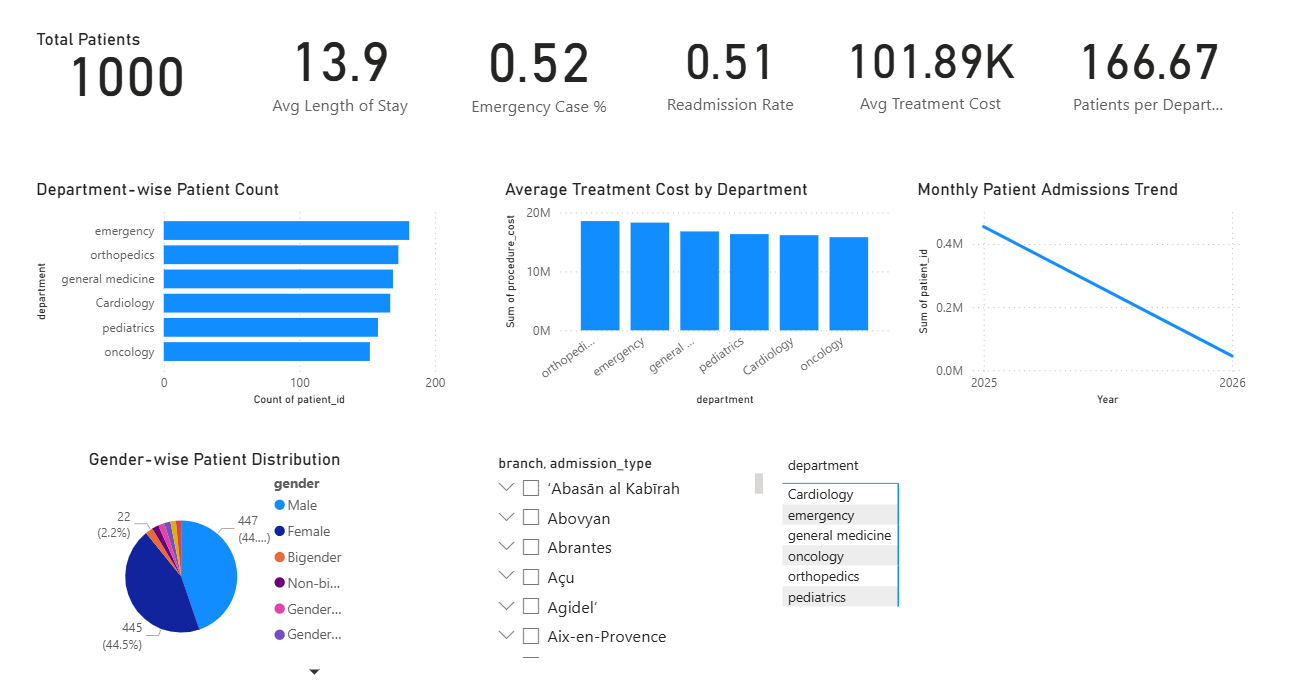

This screenshot's page, from the dashboard's own definition file:
{"tool":"powerbi","page":{"name":"Page 1","canvas":[1280,720],"ordinal":0},"visuals":[{"type":"card","title":"Total Patients","fields":{"Values":["CountNonNull(MOCK_DATA.patient_id)"]},"box":[30.9,76.7,185.6,82],"z":0},{"type":"clusteredBarChart","title":"Department-wise Patient Count","fields":{"Category":["MOCK_DATA.department"],"Y":["CountNonNull(MOCK_DATA.patient_id)"]},"box":[30.9,223.2,410.2,227.3],"z":1000},{"type":"clusteredColumnChart","title":"Average Treatment Cost by Department","fields":{"Category":["MOCK_DATA.department"],"Y":["Sum(MOCK_DATA.procedure_cost)"]},"box":[489.5,223.2,386,227.3],"z":2000},{"type":"pieChart","title":"Gender-wise Patient Distribution","fields":{"Category":["MOCK_DATA.gender"],"Y":["CountNonNull(MOCK_DATA.patient_id)"]},"box":[82,488.2,269,231.3],"z":3000},{"type":"pivotTable","fields":{"Rows":["MOCK_DATA.department"]},"box":[761.2,488.2,230,200.4],"z":4000},{"type":"slicer","fields":{"Values":["MOCK_DATA.branch","MOCK_DATA.admission_type"]},"box":[474.7,488.2,277,209.8],"z":5000},{"type":"card","title":"Readmission Rate (%)","fields":{"Values":["MOCK_DATA.Readmission Rate"]},"box":[607.9,61.9,213.8,104.9],"z":6000},{"type":"card","title":"Emergency Case (%)","fields":{"Values":["MOCK_DATA.Emergency Case %"]},"box":[441.1,56.5,172.1,115.7],"z":7000},{"type":"card","fields":{"Values":["MOCK_DATA.Avg Treatment Cost"]},"box":[809.6,49.8,201.7,129.1],"z":8000},{"type":"card","fields":{"Values":["MOCK_DATA.Patients per Department"]},"box":[1039.5,55.1,168.1,119.7],"z":9000},{"type":"lineChart","title":"Monthly Patient Admissions Trend","fields":{"Category":["MOCK_DATA.admission_date.Variation.Date Hierarchy.Year","MOCK_DATA.admission_date.Variation.Date Hierarchy.Quarter","MOCK_DATA.admission_date.Variation.Date Hierarchy.Month","MOCK_DATA.admission_date.Variation.Date Hierarchy.Day"],"Y":["Sum(MOCK_DATA.patient_id)"]},"box":[893,223.2,330.8,227.3],"z":10000},{"type":"card","fields":{"Values":["MOCK_DATA.Avg Length of Stay"]},"box":[216.5,44.4,232.7,138.5],"z":11000}]}

Visuals, with their boxes on the page's 1280x720 design canvas (x1, y1, x2, y2). These are canvas units, not pixel positions in the 1309x685 screenshot, which may show the page scaled, cropped or inside an application window:
"Total Patients" card: bbox=(31, 77, 216, 159)
"Department-wise Patient Count" clusteredBarChart: bbox=(31, 223, 441, 450)
"Average Treatment Cost by Department" clusteredColumnChart: bbox=(490, 223, 876, 450)
"Gender-wise Patient Distribution" pieChart: bbox=(82, 488, 351, 720)
pivotTable - MOCK_DATA.department: bbox=(761, 488, 991, 689)
slicer - MOCK_DATA.branch x MOCK_DATA.admission_type: bbox=(475, 488, 752, 698)
"Readmission Rate (%)" card: bbox=(608, 62, 822, 167)
"Emergency Case (%)" card: bbox=(441, 56, 613, 172)
card - MOCK_DATA.Avg Treatment Cost: bbox=(810, 50, 1011, 179)
card - MOCK_DATA.Patients per Department: bbox=(1040, 55, 1208, 175)
"Monthly Patient Admissions Trend" lineChart: bbox=(893, 223, 1224, 450)
card - MOCK_DATA.Avg Length of Stay: bbox=(216, 44, 449, 183)
